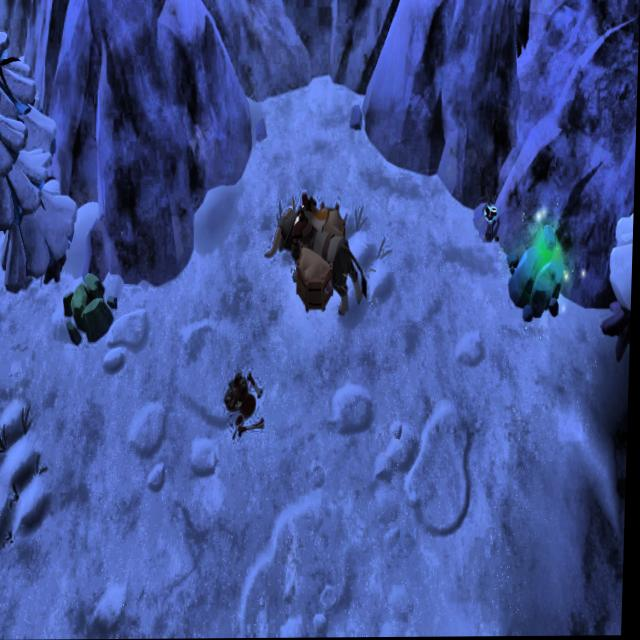rock_t3: (62, 265, 120, 355)
